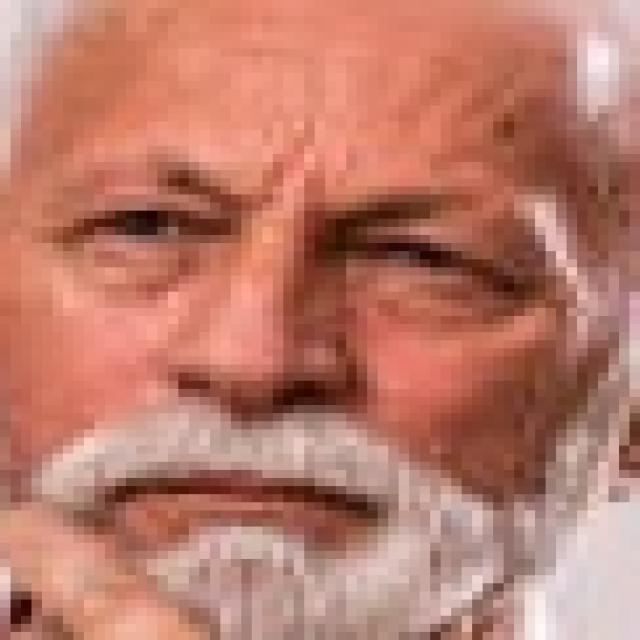Anxiety: (10, 2, 640, 632)
